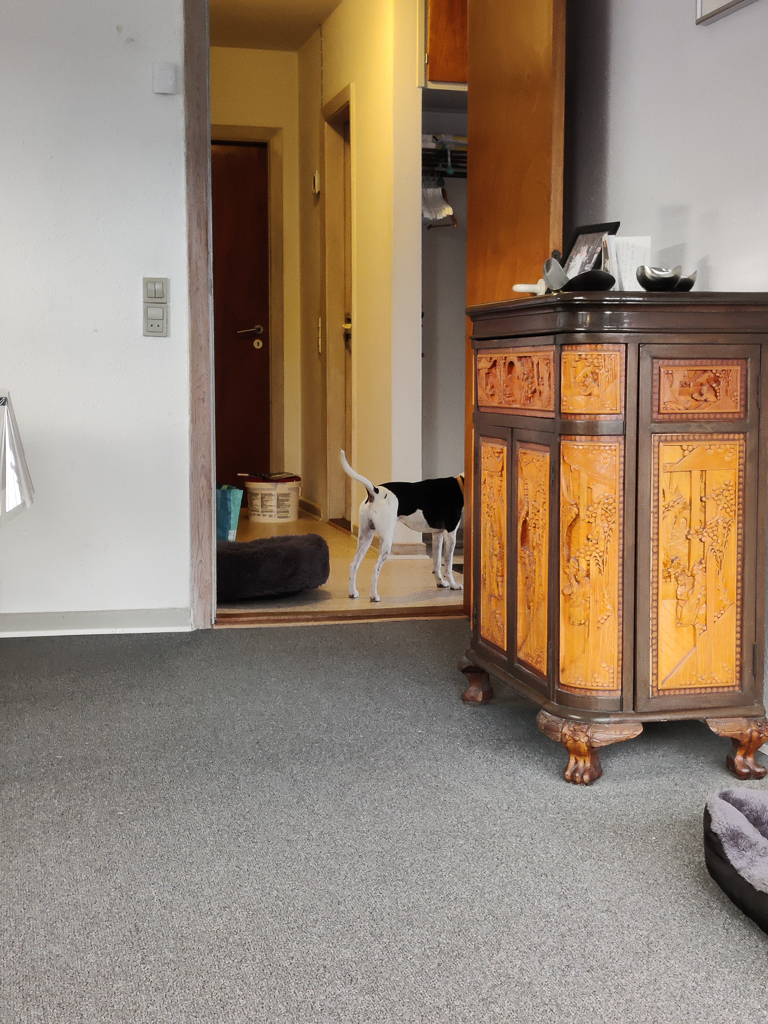Dog: (333, 445, 471, 605)
